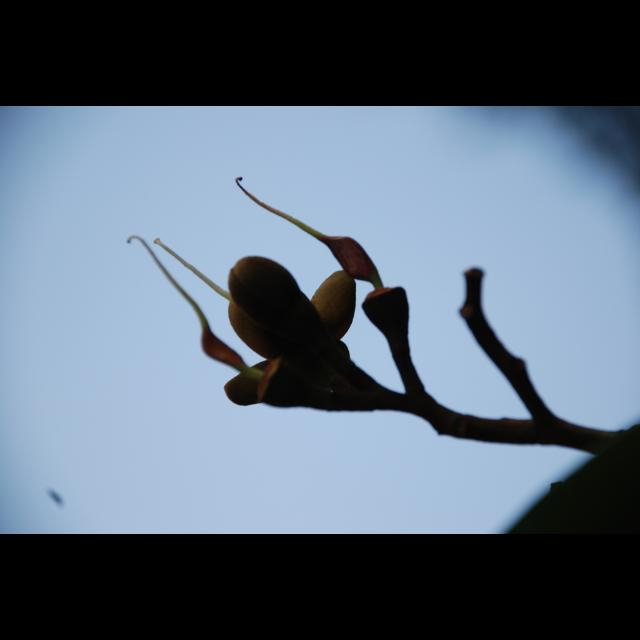Flower: (124, 236, 378, 412), (235, 176, 410, 342)
